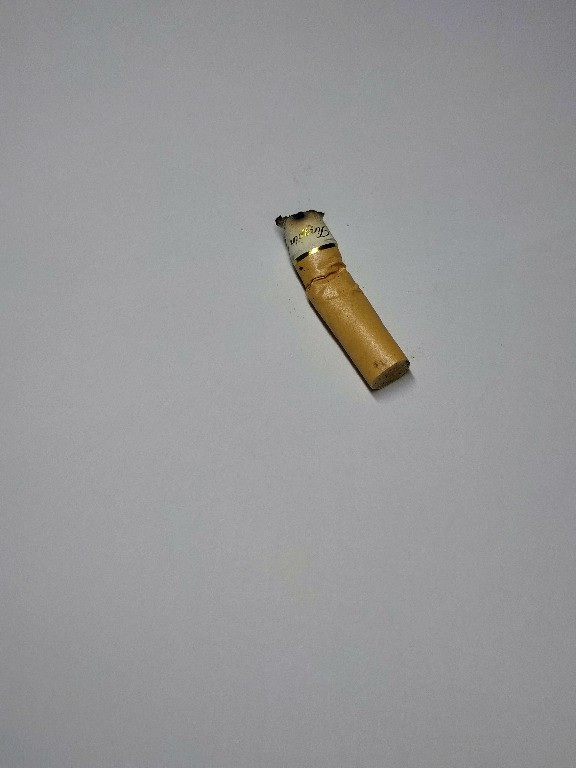cigarette: (270, 201, 418, 396)
